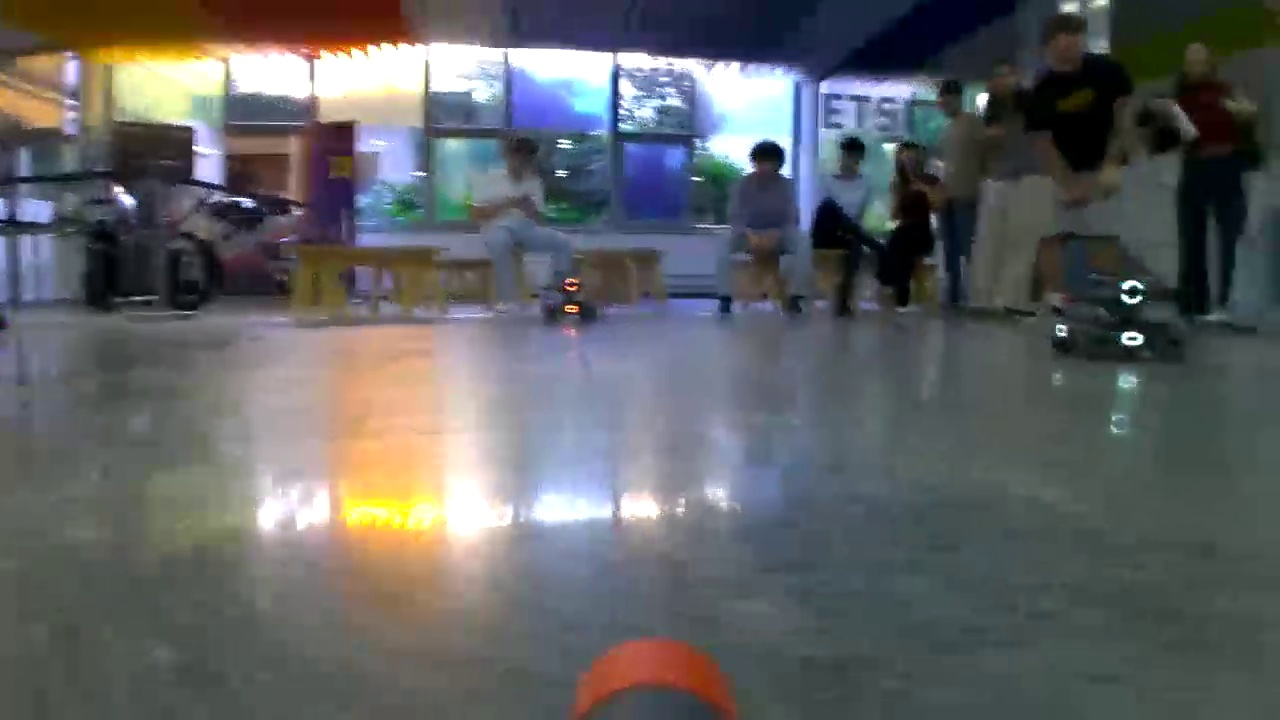robot: (1049, 275, 1181, 355), (540, 272, 600, 325)
